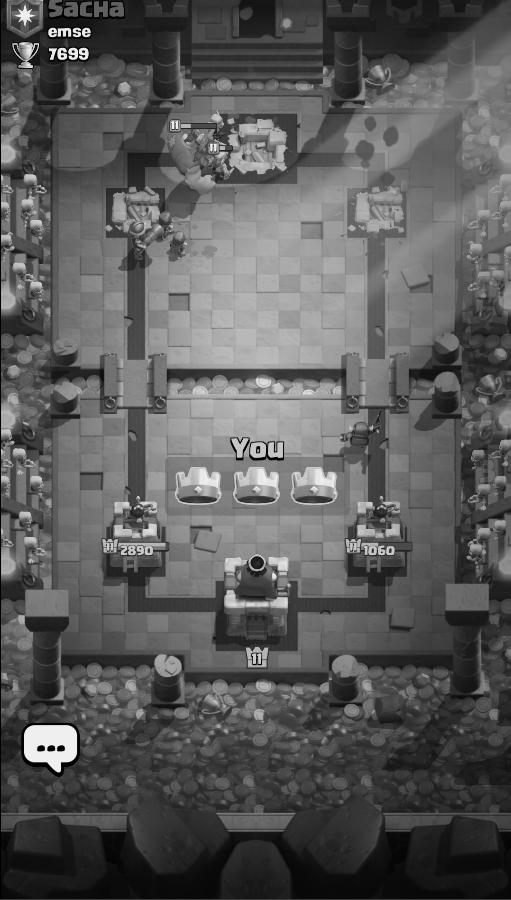archere: (163, 227, 200, 265), (151, 204, 183, 241)
bat: (185, 145, 215, 170), (179, 123, 205, 148)
geant: (151, 118, 226, 199)
gobelin: (202, 141, 243, 184), (200, 106, 231, 142)
mini_PEKKA: (322, 412, 394, 462)
mousquetaire: (119, 214, 165, 268)
